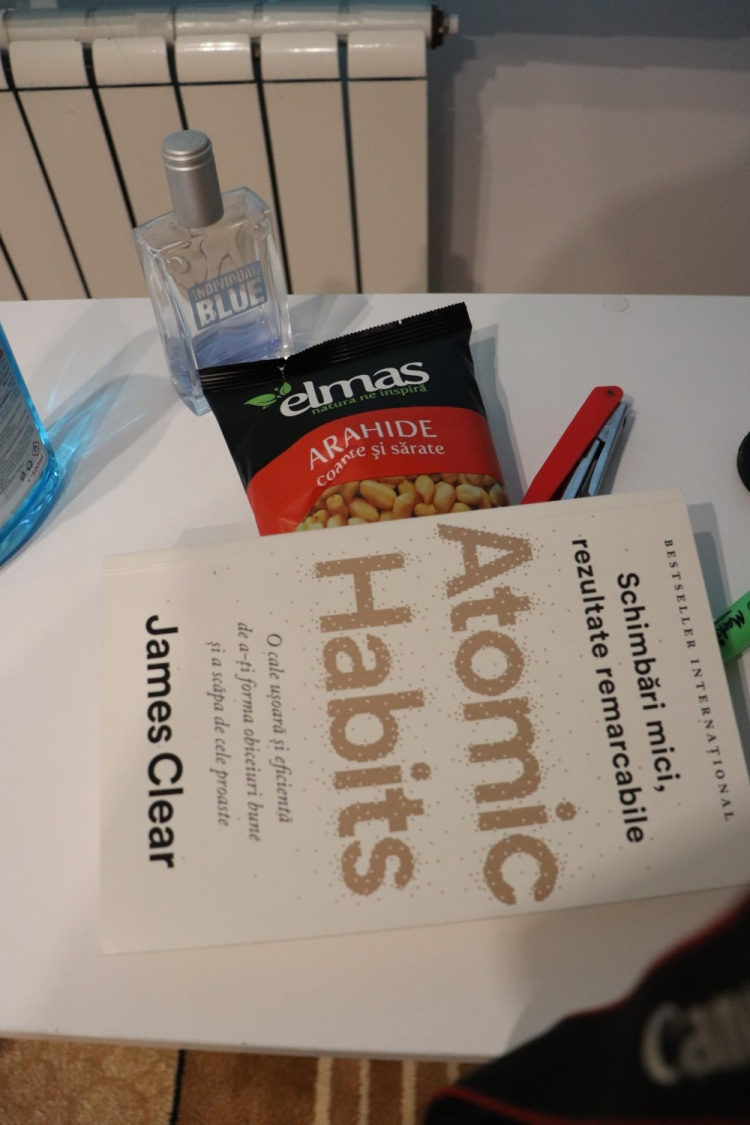peanuts: (195, 303, 544, 570)
